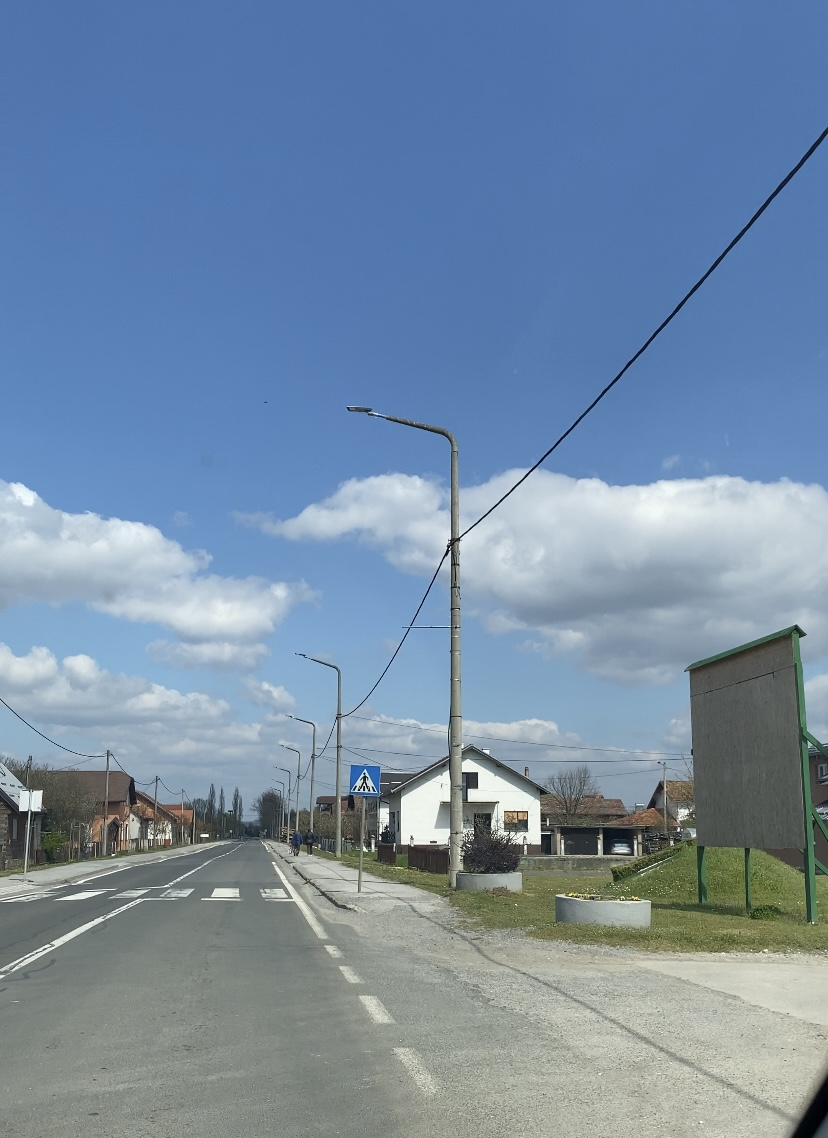Pješački prijelaz: (350, 765, 380, 796)
